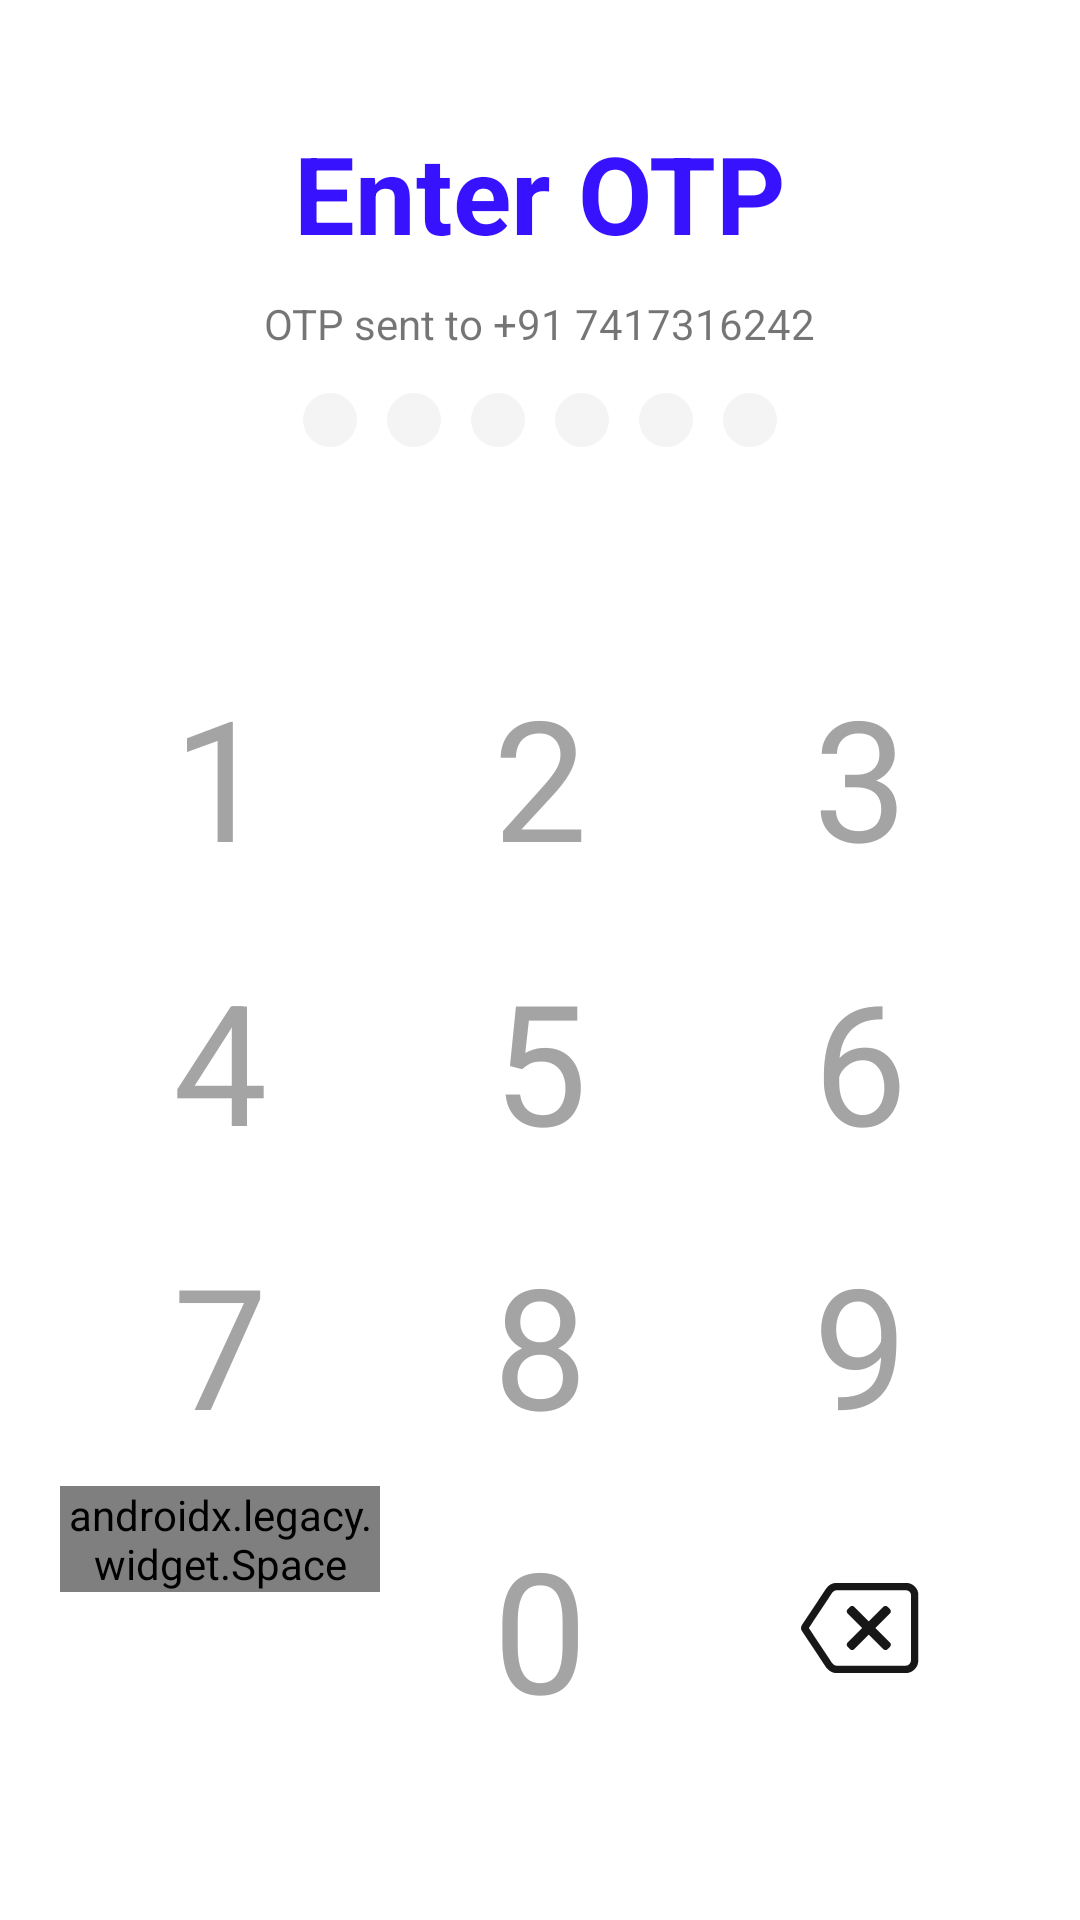

Where icons sit on this 1080 × 1920 app screen, as bbox(x1, y1, x2, y2):
backspace: bbox(801, 1583, 919, 1673)
